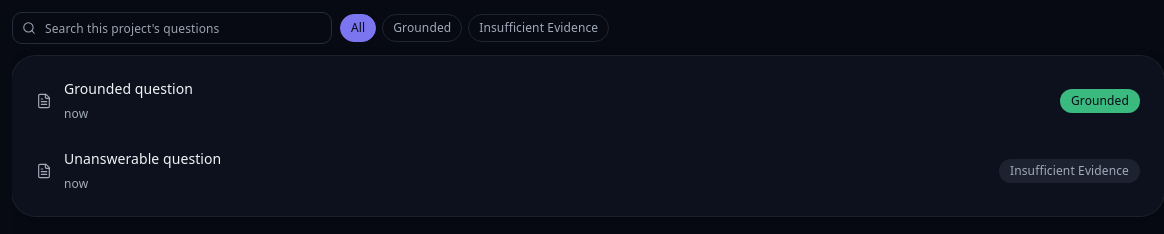
ResearchHistoryList › filters by status without touching the network
Expected: the text "Grounded question" is shown, [64,78,193,100]
Expected: the text "Unanswerable question" is shown, [64,148,221,170]
Click the button "Grounded".
click(422, 28)  # box [382,14,462,42]
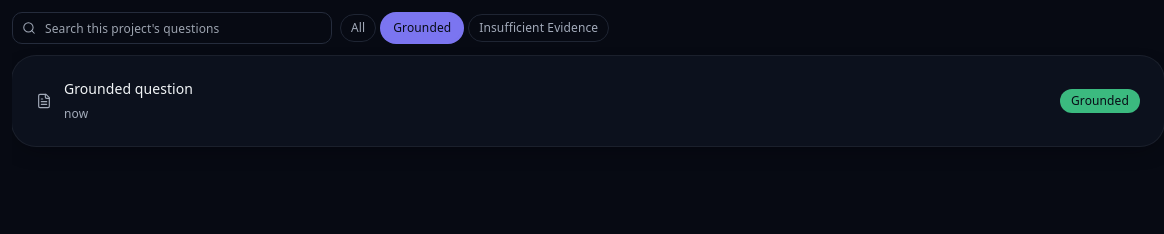
Expected: the text "Grounded question" is shown, [64,78,193,100]
Result: the link "Unanswerable question" is gone
